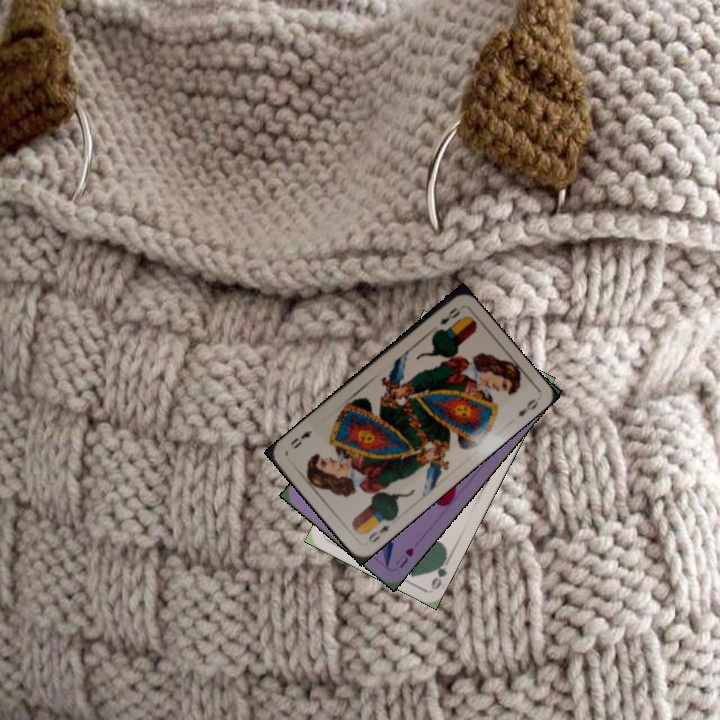EO: (364, 514, 395, 546), (435, 303, 463, 328)
GO: (427, 551, 453, 591)
HU: (391, 543, 416, 571)
